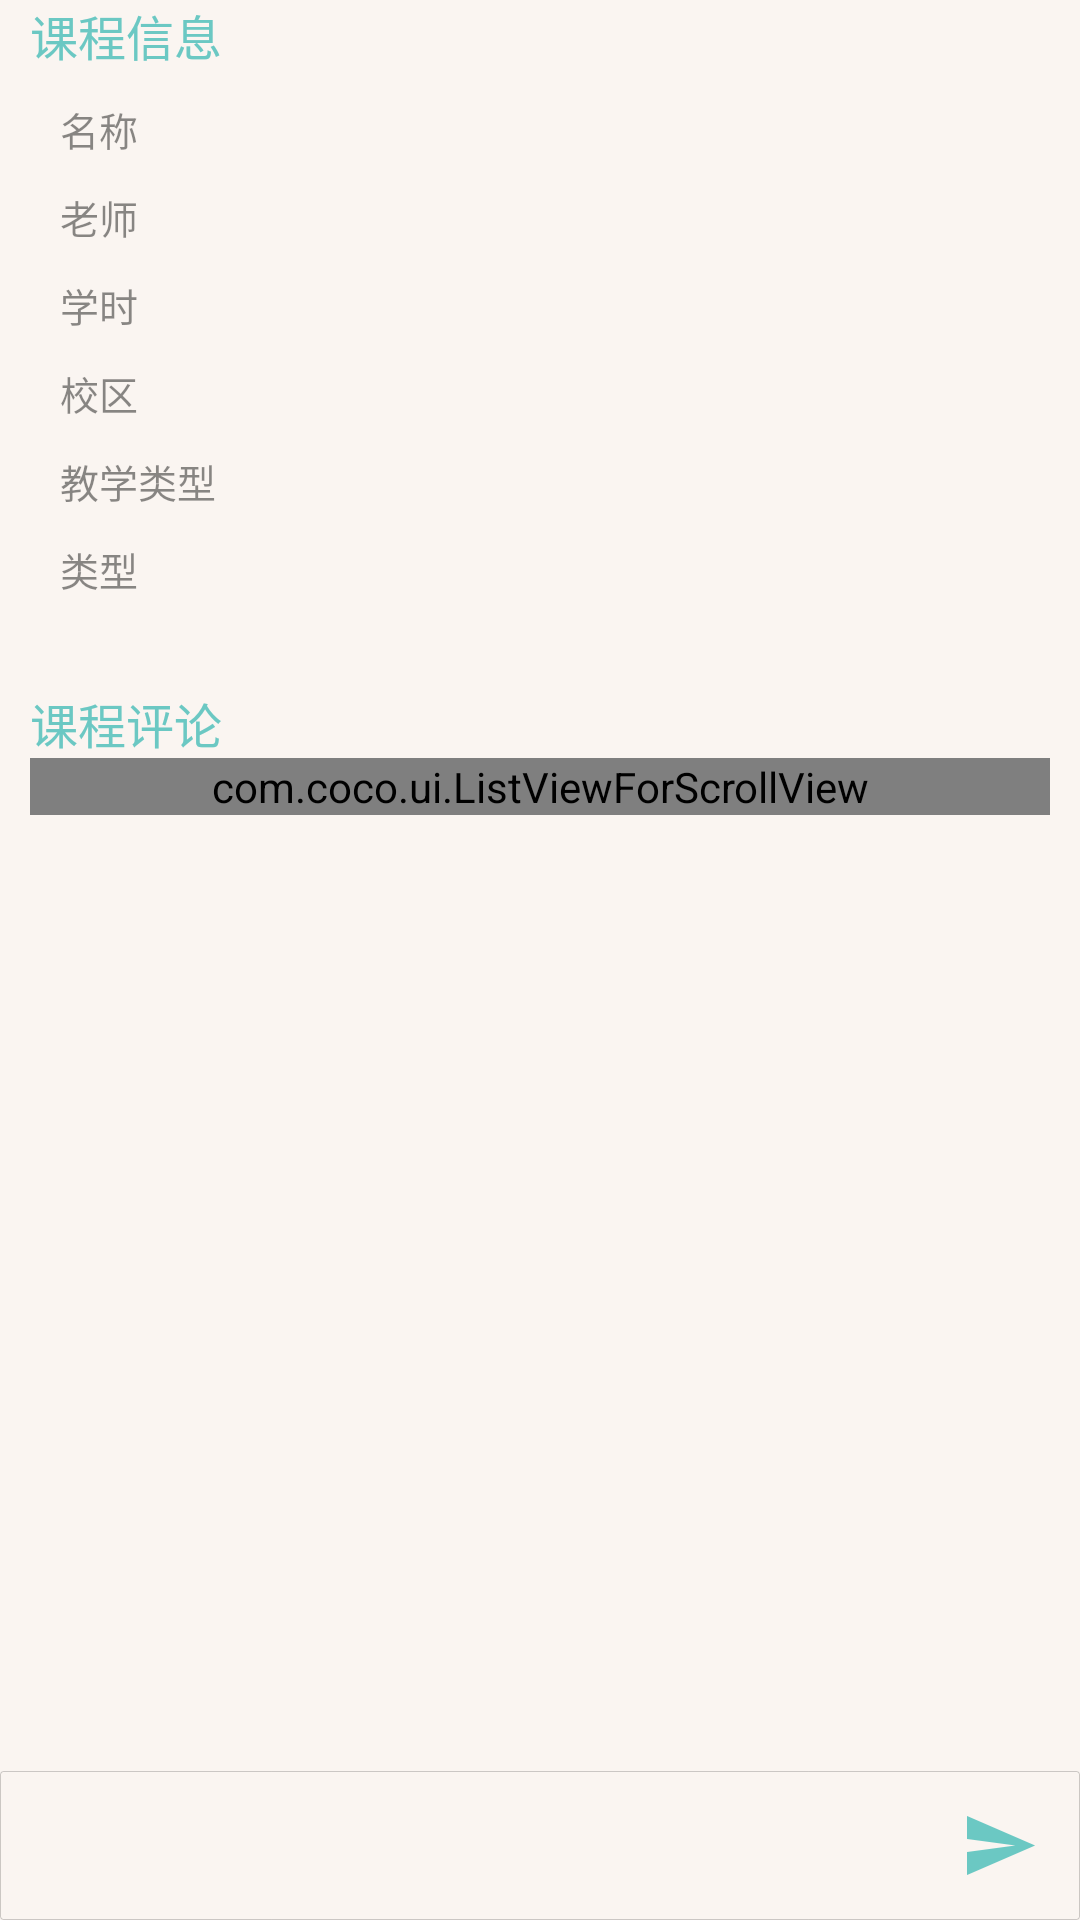

Where to tap for icons on this 1080w x 1920h app screen, as (x=x, y=y):
send: (x=1001, y=1845)
